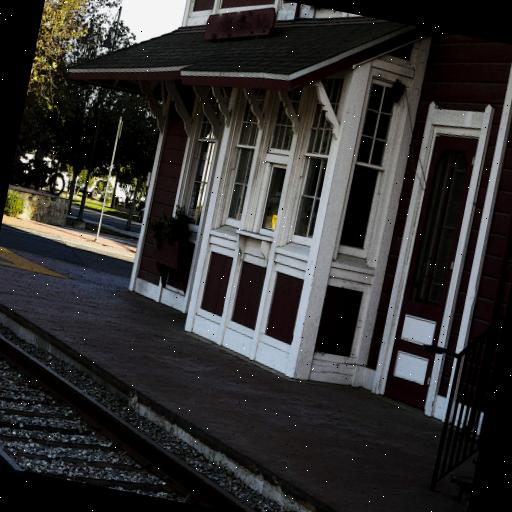platform_edge: (0, 289, 399, 512)
